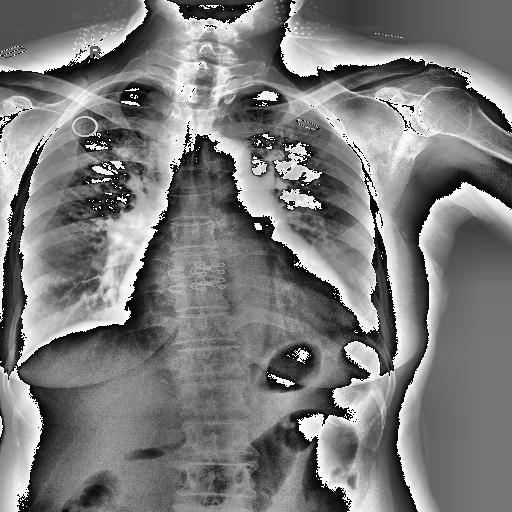0- Aortic enlargement: (210, 138, 250, 184), (204, 137, 250, 171)
3- Cardiomegaly: (116, 239, 352, 334), (116, 259, 360, 336), (114, 262, 364, 336)
